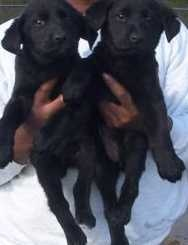dog: (7, 0, 87, 166), (90, 0, 158, 157)
